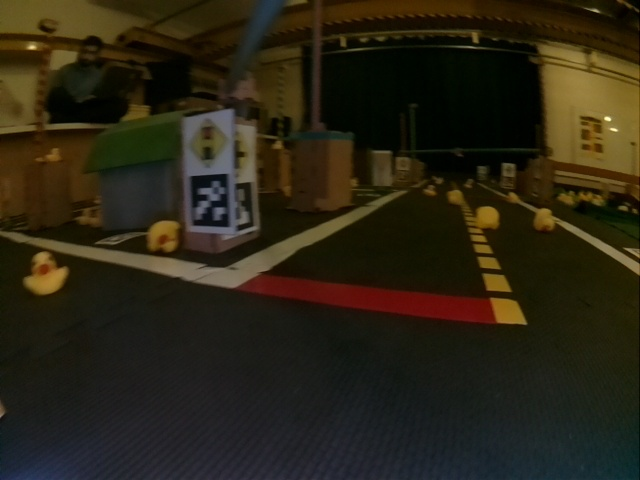Duckie: (23, 251, 67, 294), (147, 220, 180, 253), (532, 208, 556, 232), (477, 207, 500, 230), (447, 190, 464, 206), (425, 184, 434, 194)
Intersection sign: (233, 129, 251, 178)
QR code: (190, 174, 230, 229), (233, 181, 256, 232)
Signal sign: (188, 118, 225, 168)
